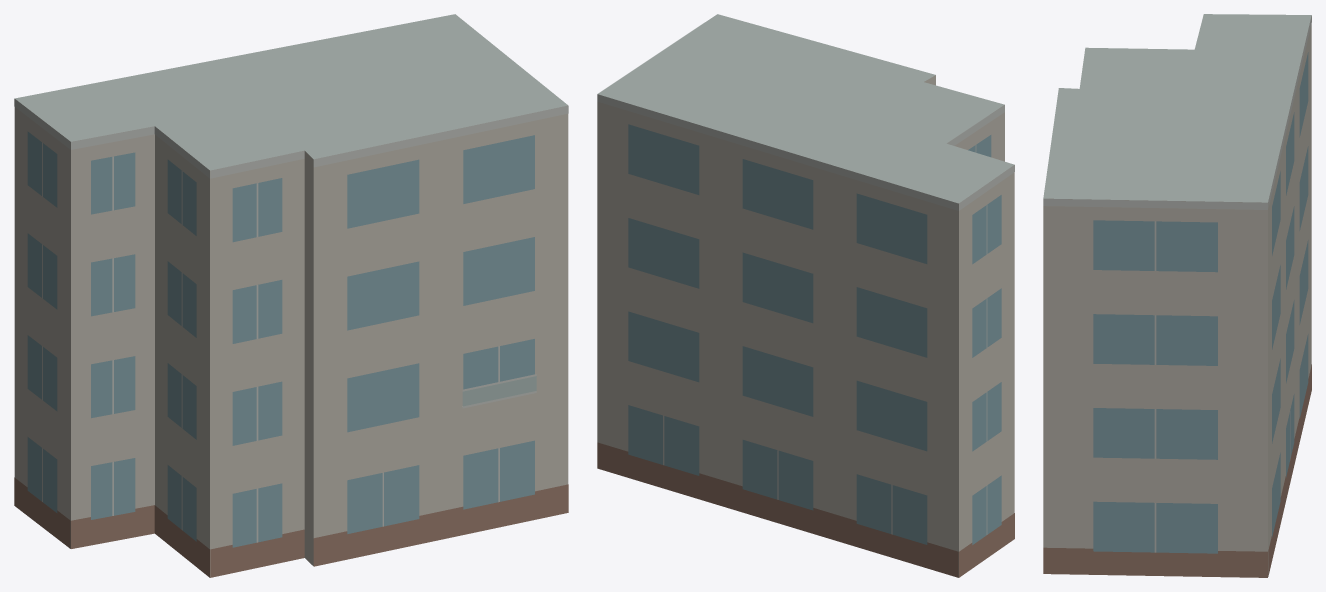
Rendered from survey-upis-32897142.glb.
3 renders of one model, left to right at view 1: azimuth 30°, elevation 25°; view 2: azimuth 150°, elevation 25°; view 3: azimuth 270°, elevation 25°, orthographic. The views are drawn at different scales.
Visible parts, largest first — view 1: survey-upis-32897142.tmp; view 2: survey-upis-32897142.tmp; view 3: survey-upis-32897142.tmp.
Part boxes in pixels (x1,y1,x2,y2): survey-upis-32897142.tmp: [14, 14, 568, 577]; survey-upis-32897142.tmp: [597, 14, 1014, 577]; survey-upis-32897142.tmp: [1043, 14, 1311, 577].
Size of the model in its own units: 13.15 by 12.2 by 7.92.
